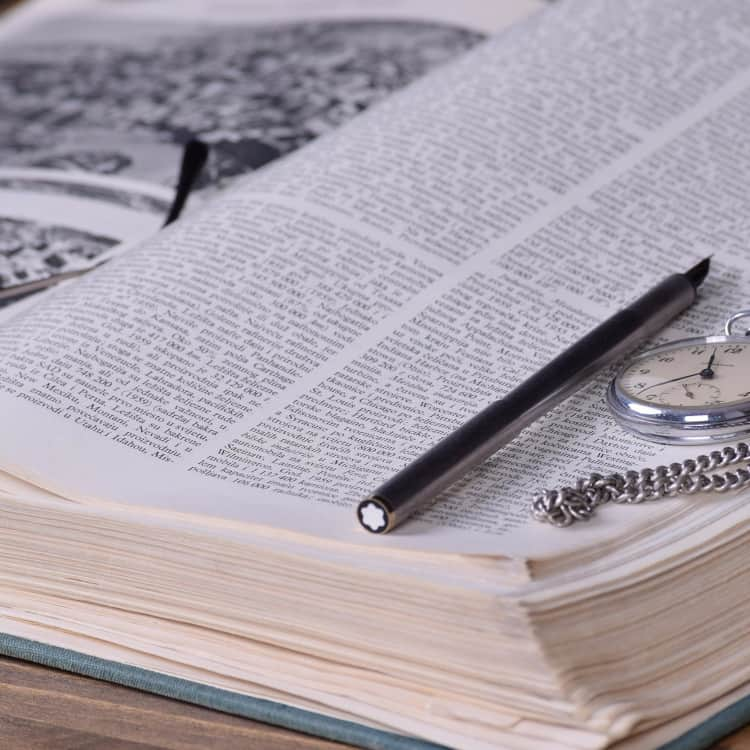Open Book: (9, 4, 744, 750)
